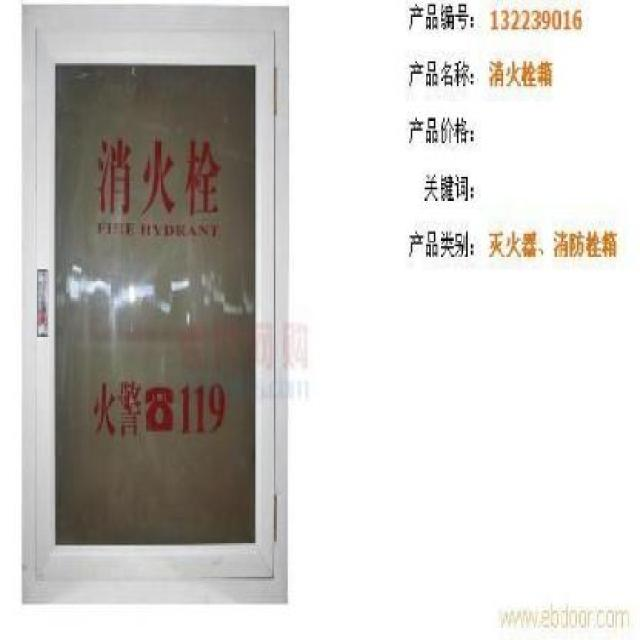firehydrant: (18, 1, 291, 612)
